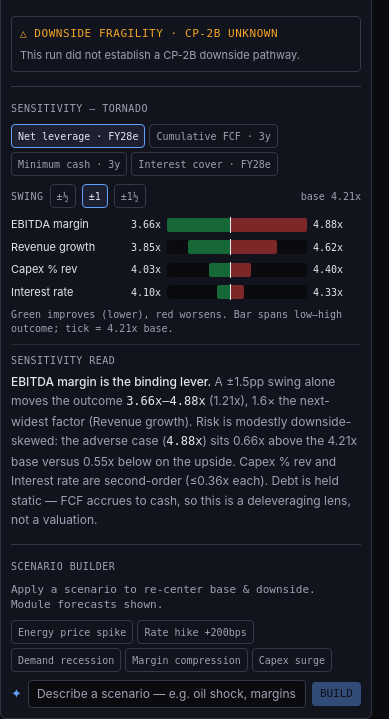
ScenarioPanel › builds from Enter, includes every returned driver, and falls back to the analyst text
(page scrolled)
Press Tab in the field labelled "Describe a scenario", box [28,680,306,708]
Replace the text in the field labelled "Describe a scenario" with "full custom case": (167, 694) [28,680,306,708]
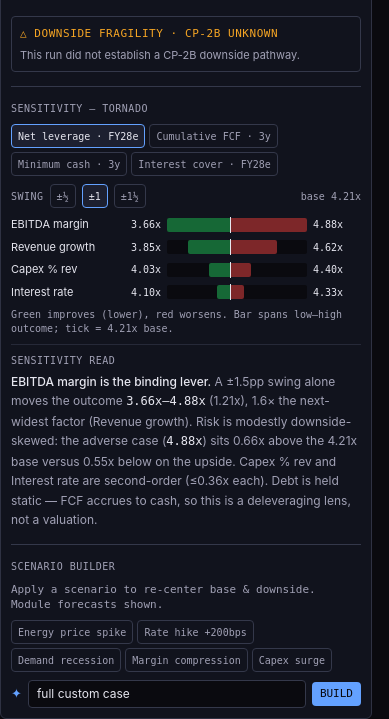
Press Enter in the field named "Describe a scenario", box [28,680,306,708]
(page scrolled)
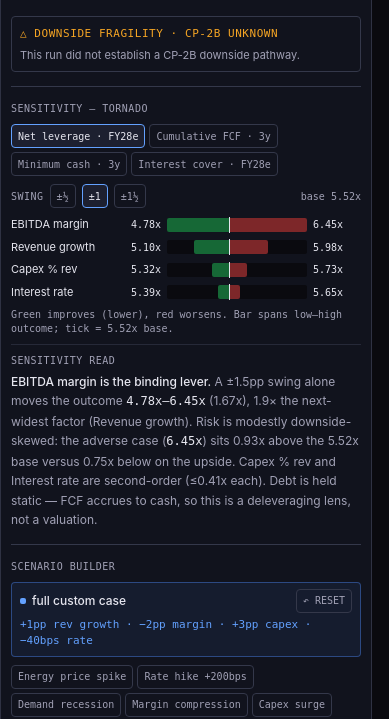
Expected: the text "full custom case" is shown, [32,592,126,610]
Expected: the text "+1pp rev growth · −2pp margin · +3pp capex · −40bps rate" is shown, [20,617,352,650]
